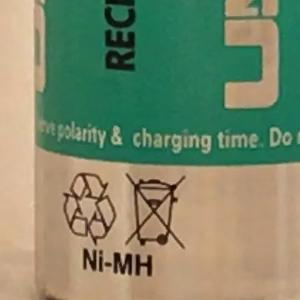keyword: (73, 243, 163, 281)
